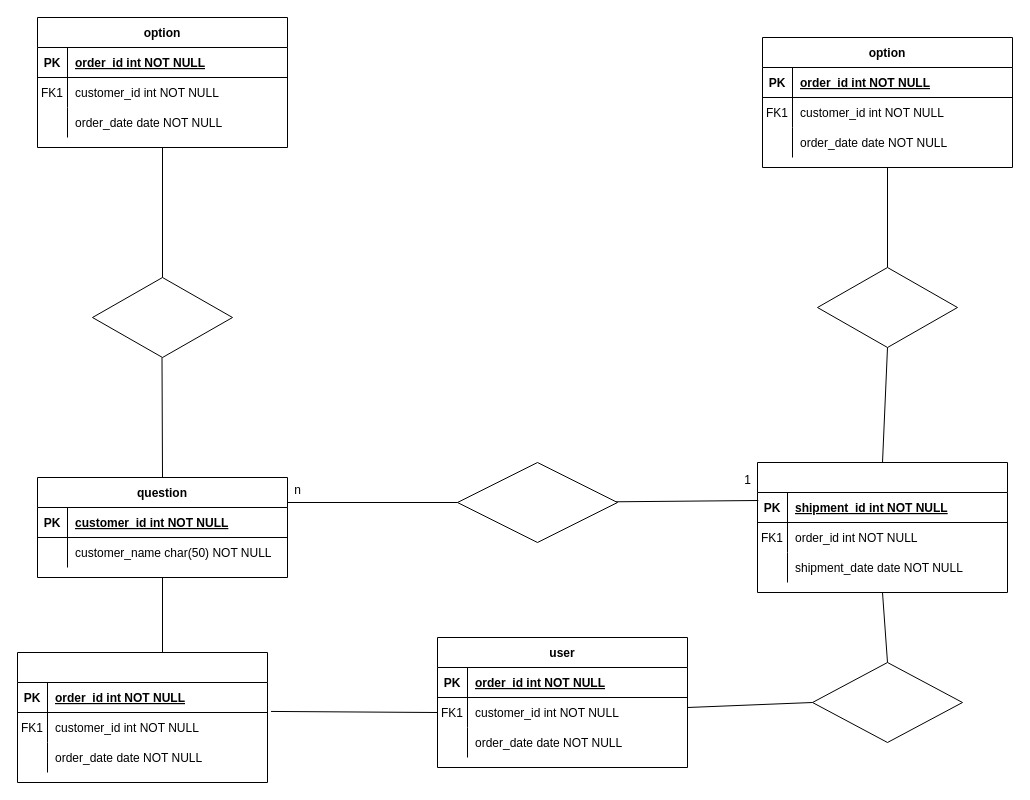
This 1030x800 diagram has some shape labels left out. Each missing label, with the box of its shape:
quiz: (756, 462, 1008, 592)
user_answer: (16, 652, 268, 782)
